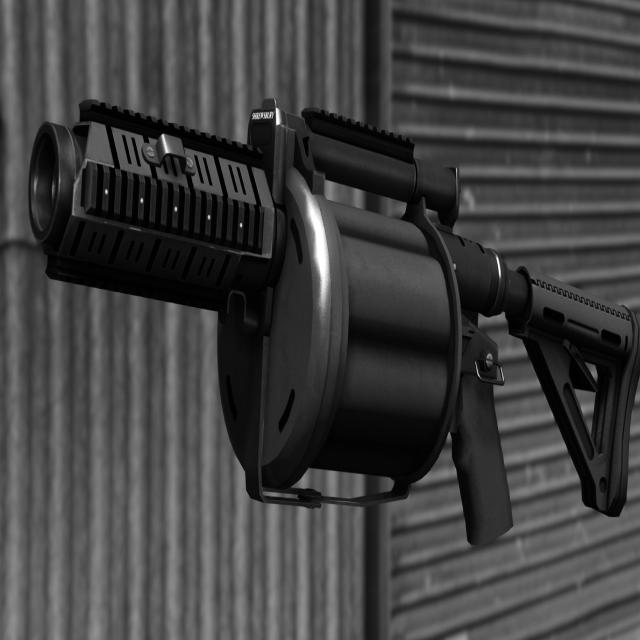Weapon: (29, 99, 640, 544)
